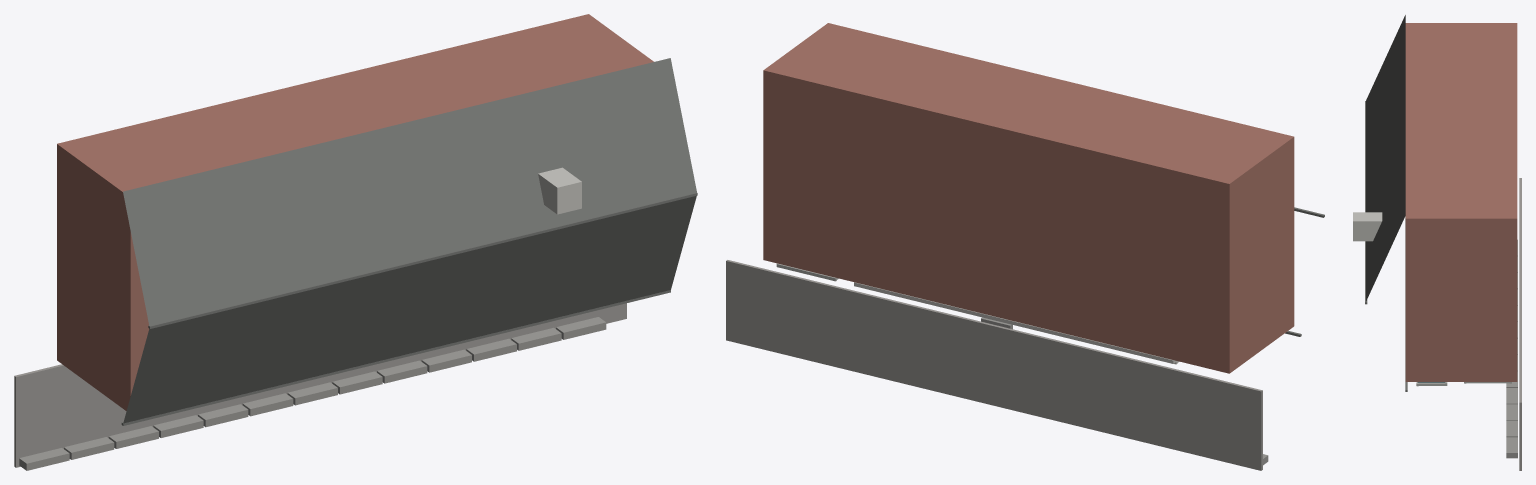
File: sportringen_vrigstad_study.glb
The picture shows the model from 3 angles, left to right: view 1: azimuth 30°, elevation 25°; view 2: azimuth 150°, elevation 25°; view 3: azimuth 270°, elevation 25°; orthographic projection. The views are drawn at different scales.
Visible parts, largest first — view 1: main_roof_plane_1, main_masonry, main_roof_plane_0, sidewalk, main_gutter_1, main_gutter_0, chimney, stone_wall_0, stone_wall_5, stone_wall_4, stone_wall_12, stone_wall_8 (+1 smaller); view 2: main_masonry, sidewalk, shopfront_white_facade; view 3: main_masonry, main_roof_plane_1, sidewalk, chimney, stone_wall_12, stone_wall_11, stone_wall_9, stone_wall_10, main_gutter_0.
Part boxes in pixels (box(x1,y1,x2,y2)): main_roof_plane_1: box(123, 58, 696, 325); main_masonry: box(57, 14, 653, 410); main_roof_plane_0: box(123, 195, 696, 423); sidewalk: box(14, 303, 626, 467); main_gutter_1: box(148, 192, 697, 328); main_gutter_0: box(121, 290, 670, 425); chimney: box(538, 167, 581, 214); stone_wall_0: box(19, 448, 69, 470); stone_wall_5: box(242, 393, 293, 416); stone_wall_4: box(198, 404, 248, 427); stone_wall_12: box(556, 317, 606, 339); stone_wall_8: box(377, 360, 427, 383); main_masonry: box(763, 23, 1294, 373); sidewalk: box(726, 260, 1262, 470); shopfront_white_facade: box(854, 282, 1176, 363); main_masonry: box(1405, 23, 1517, 381); main_roof_plane_1: box(1366, 15, 1405, 301); sidewalk: box(1519, 178, 1521, 470); chimney: box(1353, 212, 1382, 241); stone_wall_12: box(1506, 437, 1517, 458); stone_wall_11: box(1506, 420, 1517, 437); stone_wall_9: box(1506, 388, 1517, 404); stone_wall_10: box(1506, 404, 1517, 420); main_gutter_0: box(1405, 216, 1407, 391).
Bounding box in the file's own units: 31 × 15.7 × 9.85.
